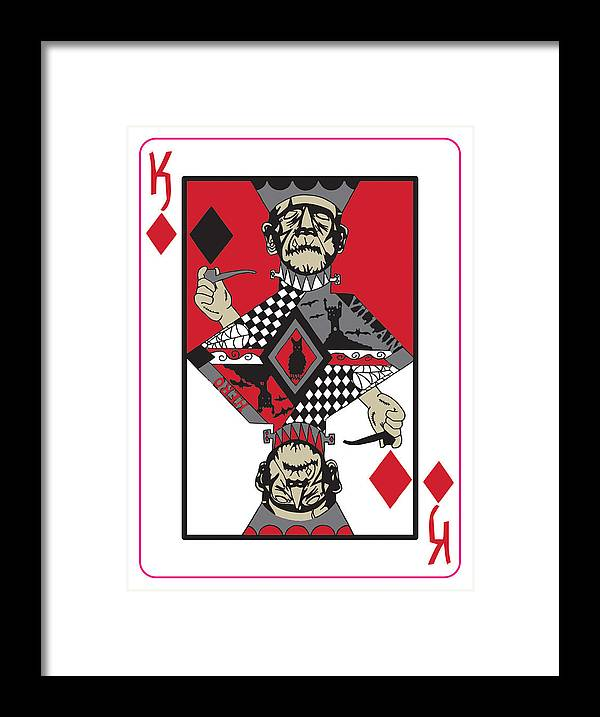king of diamonds: (141, 139, 458, 582)
